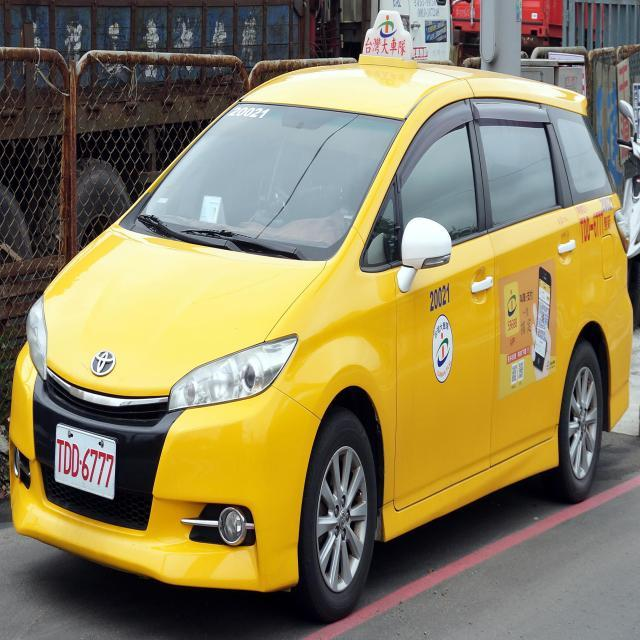taxi: (5, 3, 635, 623)
